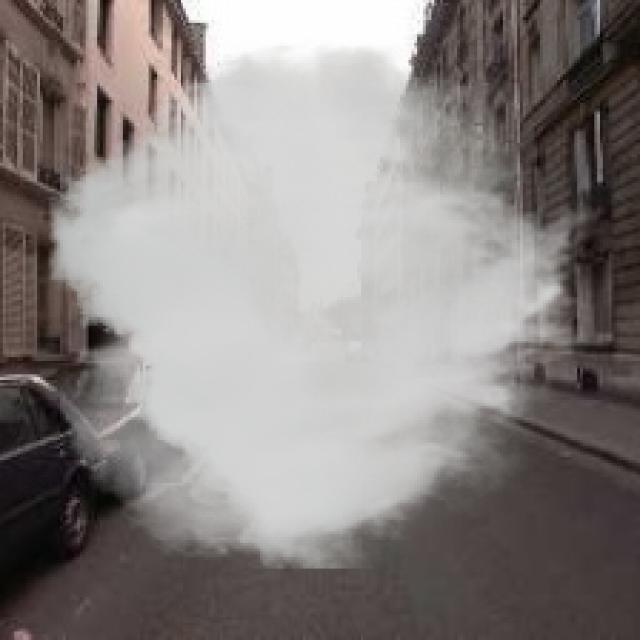Smoke: (48, 37, 603, 569)
